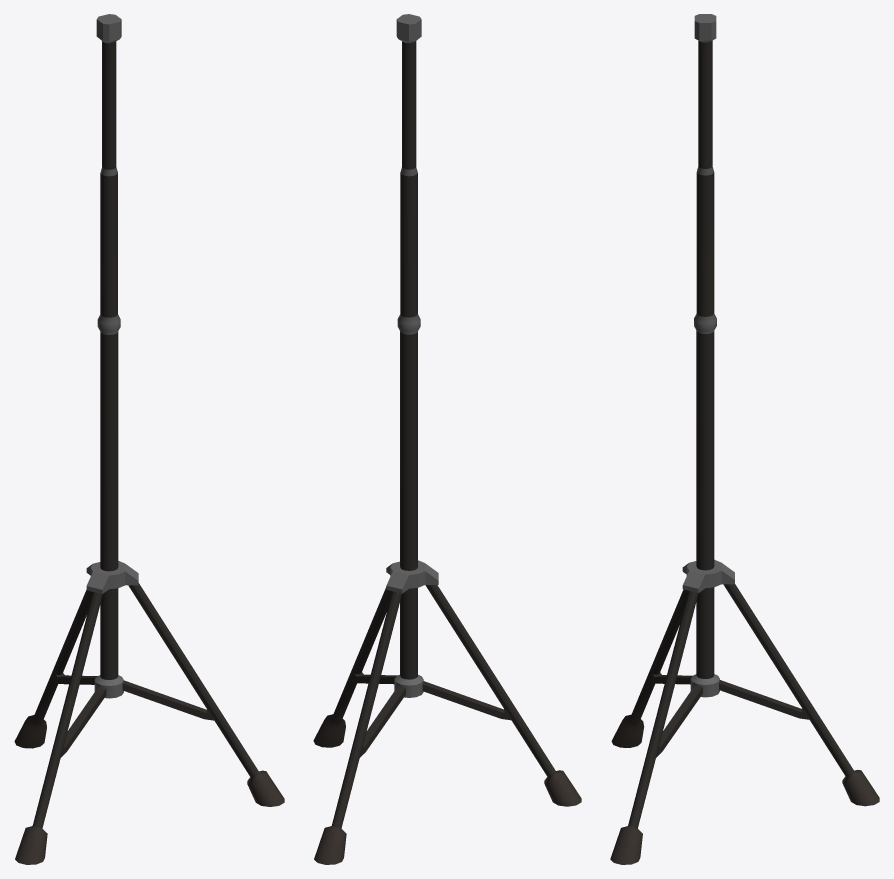
Rendered from GYM_Tripod_1.fbx.
The picture shows the model from 3 angles, left to right: view 1: azimuth 30°, elevation 25°; view 2: azimuth 150°, elevation 25°; view 3: azimuth 270°, elevation 25°; orthographic projection.
Visible parts, largest first — view 1: pCylinder71; view 2: pCylinder71; view 3: pCylinder71.
Part boxes in pixels (<box>): pCylinder71: <box>14,14,284,864</box>; pCylinder71: <box>313,14,581,864</box>; pCylinder71: <box>610,14,879,864</box>.
Size of the model in its own units: 1.37 by 3.87 by 1.21.
Materials: 3 (1 with a texture image).
